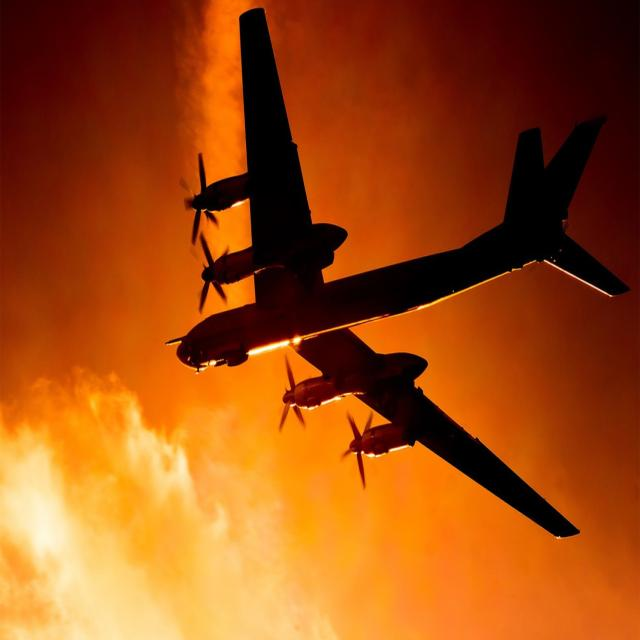MIL_Plane: (165, 7, 630, 538)
